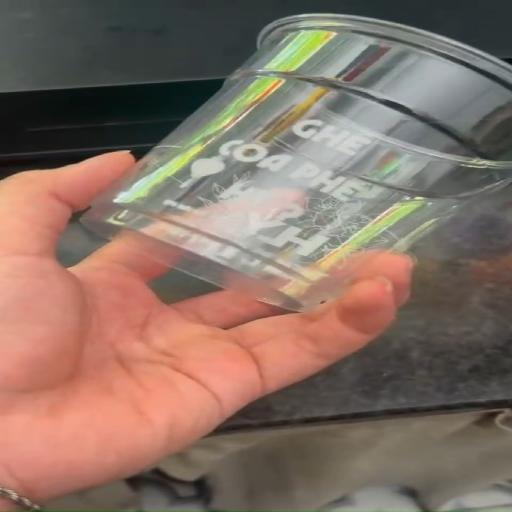ly_nhua: (83, 14, 511, 310)
